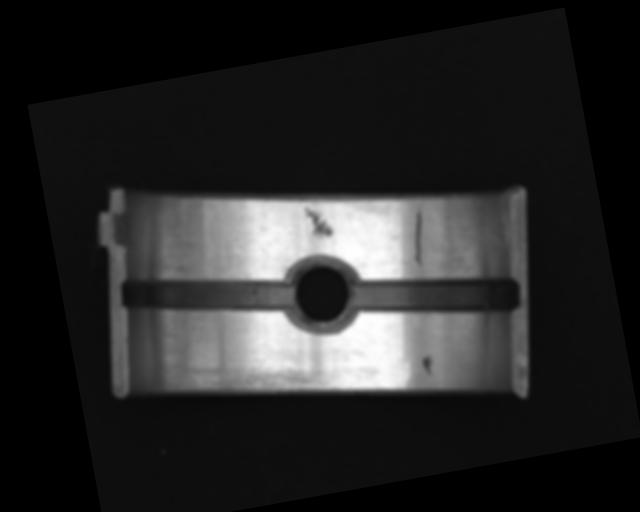bruise: (301, 202, 335, 242), (421, 353, 436, 377)
gap: (118, 252, 296, 338), (351, 257, 521, 336)
hole: (280, 254, 365, 341)
nick: (406, 203, 431, 268)
scratch: (185, 344, 334, 415)
